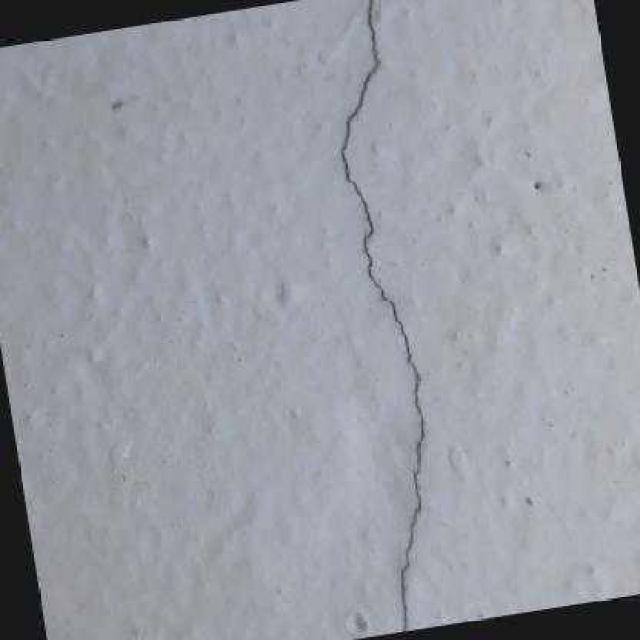D00: (340, 0, 426, 631)
